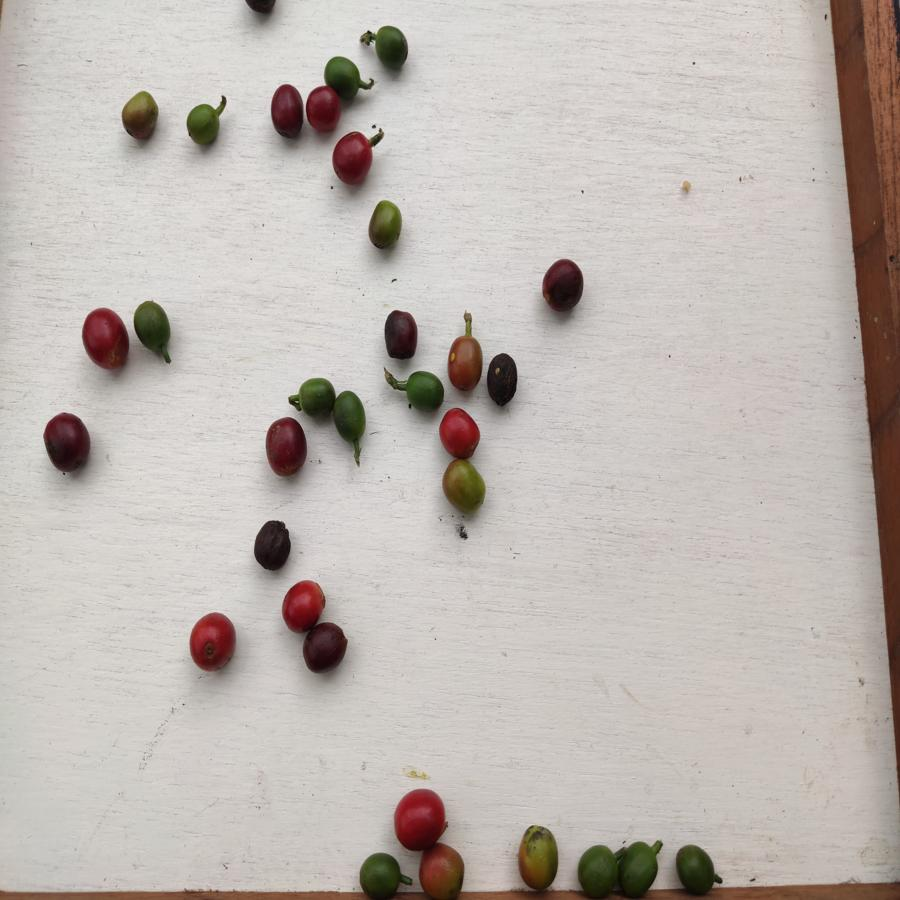Inmaduro: (132, 296, 175, 362), (671, 839, 719, 896), (576, 838, 618, 896), (329, 391, 372, 444), (357, 848, 402, 898), (620, 838, 657, 897), (372, 25, 414, 72), (405, 368, 445, 412), (297, 376, 335, 422), (185, 103, 221, 148), (324, 57, 363, 95)
Maduro: (78, 306, 132, 375), (391, 788, 446, 851), (188, 611, 237, 672), (328, 130, 375, 185), (280, 578, 327, 629), (438, 408, 480, 459)
Pinton: (442, 458, 491, 518), (416, 843, 467, 900), (518, 822, 560, 890), (121, 88, 162, 145), (367, 198, 407, 252), (447, 335, 481, 391)
Sobremaduro: (42, 414, 92, 470), (264, 416, 308, 476), (541, 257, 583, 317), (251, 521, 297, 572), (303, 622, 349, 672), (383, 307, 418, 365), (269, 84, 302, 142), (487, 352, 518, 409), (305, 88, 339, 135)
